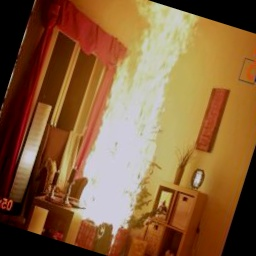fire: (52, 0, 214, 246)
